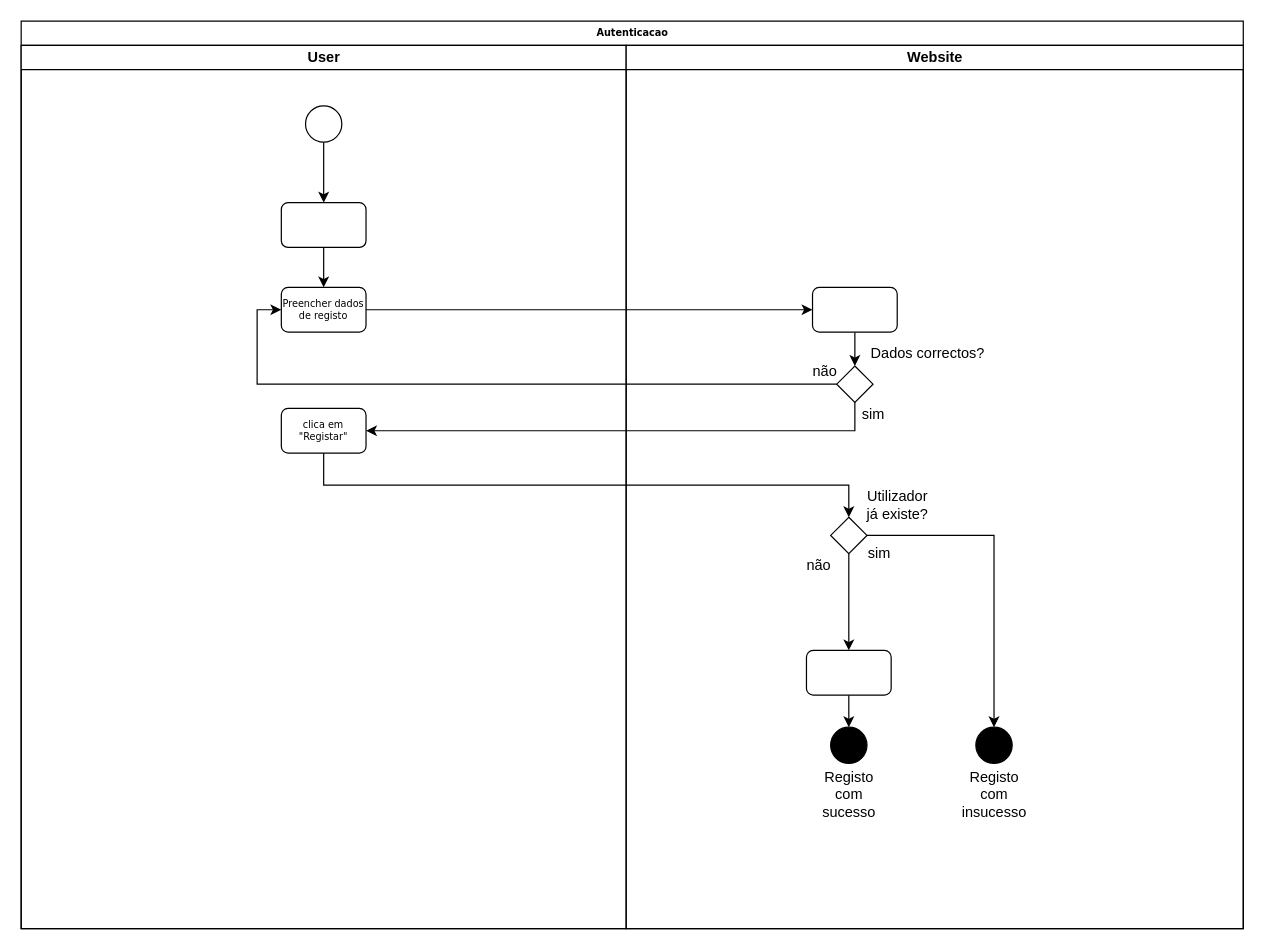
The diagram is 1264 pixels wide and 950 high, and some of its shapes have lost their labels. The shapes that lost their labels are listed below. From the top down, each one's centre as x and y in pixels, then its label:
point 323,224: Clica em formulário de registo
point 854,309: Valida dados (estrutura de email, password...)
point 848,672: Envia email de verificação
